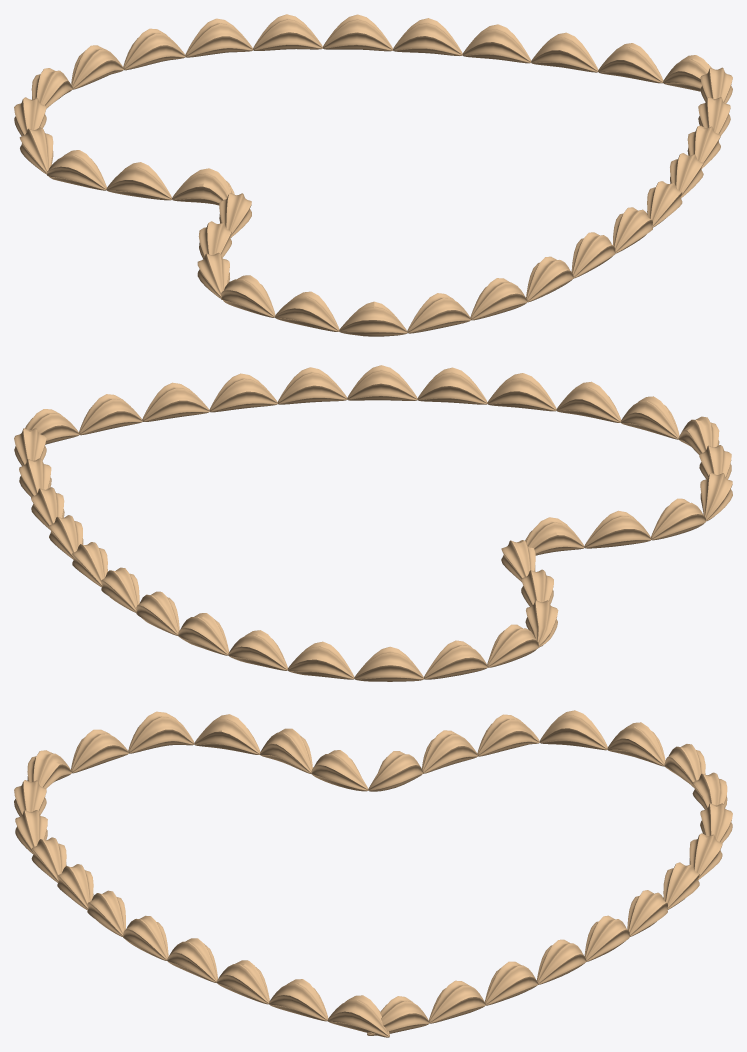
Rendered from DecoGlazeCream2.glb.
3 renders of one model, top to bottom at view 1: azimuth 30°, elevation 25°; view 2: azimuth 150°, elevation 25°; view 3: azimuth 270°, elevation 25°, orthographic.
Visible parts, largest first — view 1: Star.028; view 2: Star.028; view 3: Star.028.
Boxes of the visible parts, left/top/right/bottom form: Star.028: left=14, top=14, right=732, bottom=336; Star.028: left=14, top=365, right=732, bottom=681; Star.028: left=14, top=710, right=732, bottom=1037.
Size of the model in its own units: 1.57 by 0.0968 by 1.61.
